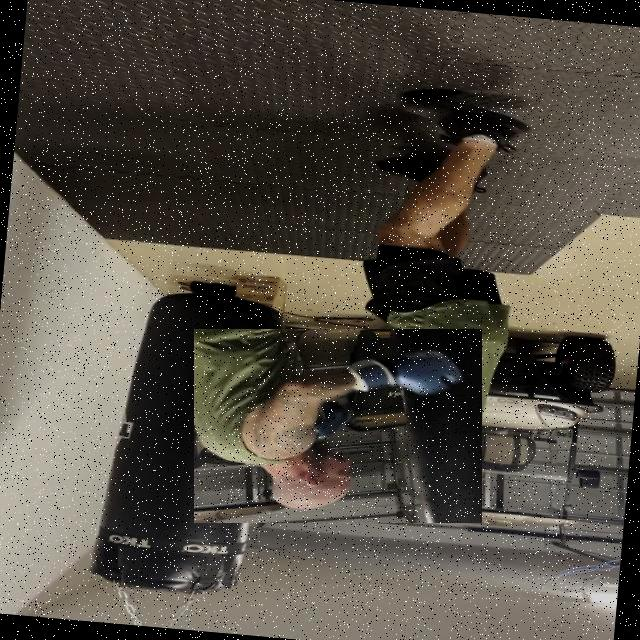punch: (194, 329, 482, 523)
